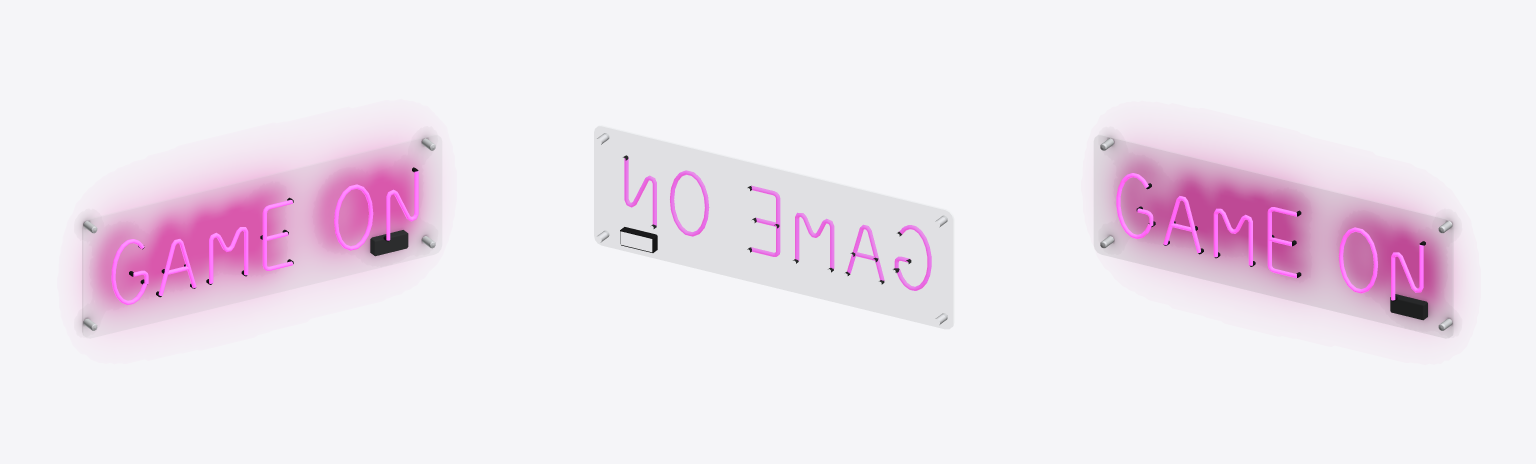
The model's file is neon_sign.glb.
3 renders of one model, left to right at view 1: azimuth 30°, elevation 25°; view 2: azimuth 150°, elevation 25°; view 3: azimuth 330°, elevation 25°, orthographic.
Parts seen in each view (by area): view 1: neon_sign_LOD0, neon_sign_Glow; view 2: neon_sign_LOD0; view 3: neon_sign_LOD0, neon_sign_Glow.
Part boxes in pixels (left/top/right/bottom): neon_sign_LOD0: left=82, top=135, right=441, bottom=337; neon_sign_Glow: left=80, top=137, right=431, bottom=322; neon_sign_LOD0: left=594, top=126, right=953, bottom=328; neon_sign_LOD0: left=1094, top=135, right=1453, bottom=337; neon_sign_Glow: left=1106, top=139, right=1458, bottom=323.
Size of what is drawn, in the model's own units: 1.4 by 0.88 by 0.0555.
4 materials, 3 textured.
